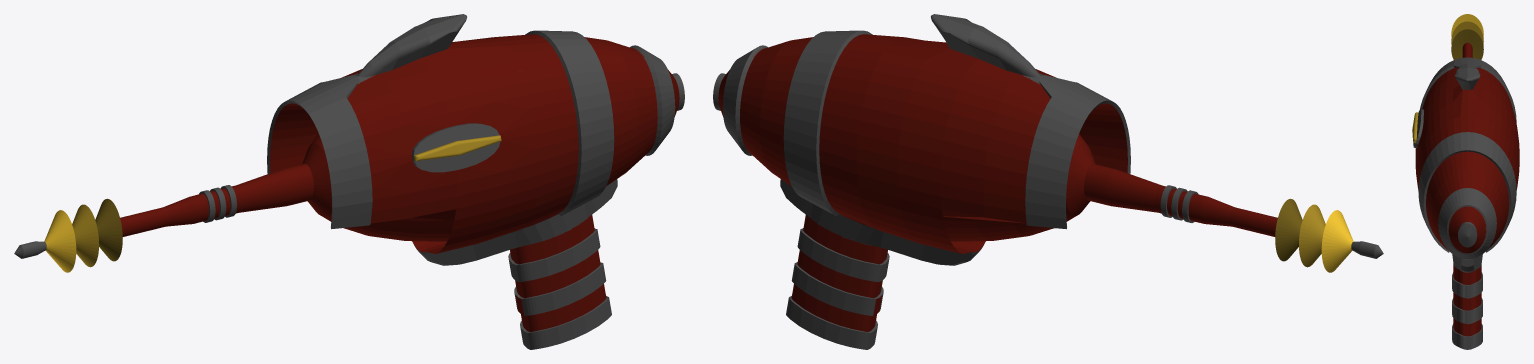
File: aliengun.fbx
3 views of the same model, side by side, from view 1: azimuth 30°, elevation 25°; view 2: azimuth 150°, elevation 25°; view 3: azimuth 270°, elevation 25° (orthographic). The views are drawn at different scales.
Parts seen in each view (by area): view 1: Sphere.001; view 2: Sphere.001; view 3: Sphere.001.
Boxes of the visible parts, x1,y1,x2,y2 form: Sphere.001: [14, 14, 684, 349]; Sphere.001: [713, 14, 1383, 349]; Sphere.001: [1412, 14, 1519, 349].
Size of the model in its own units: 723 by 362 by 150.
